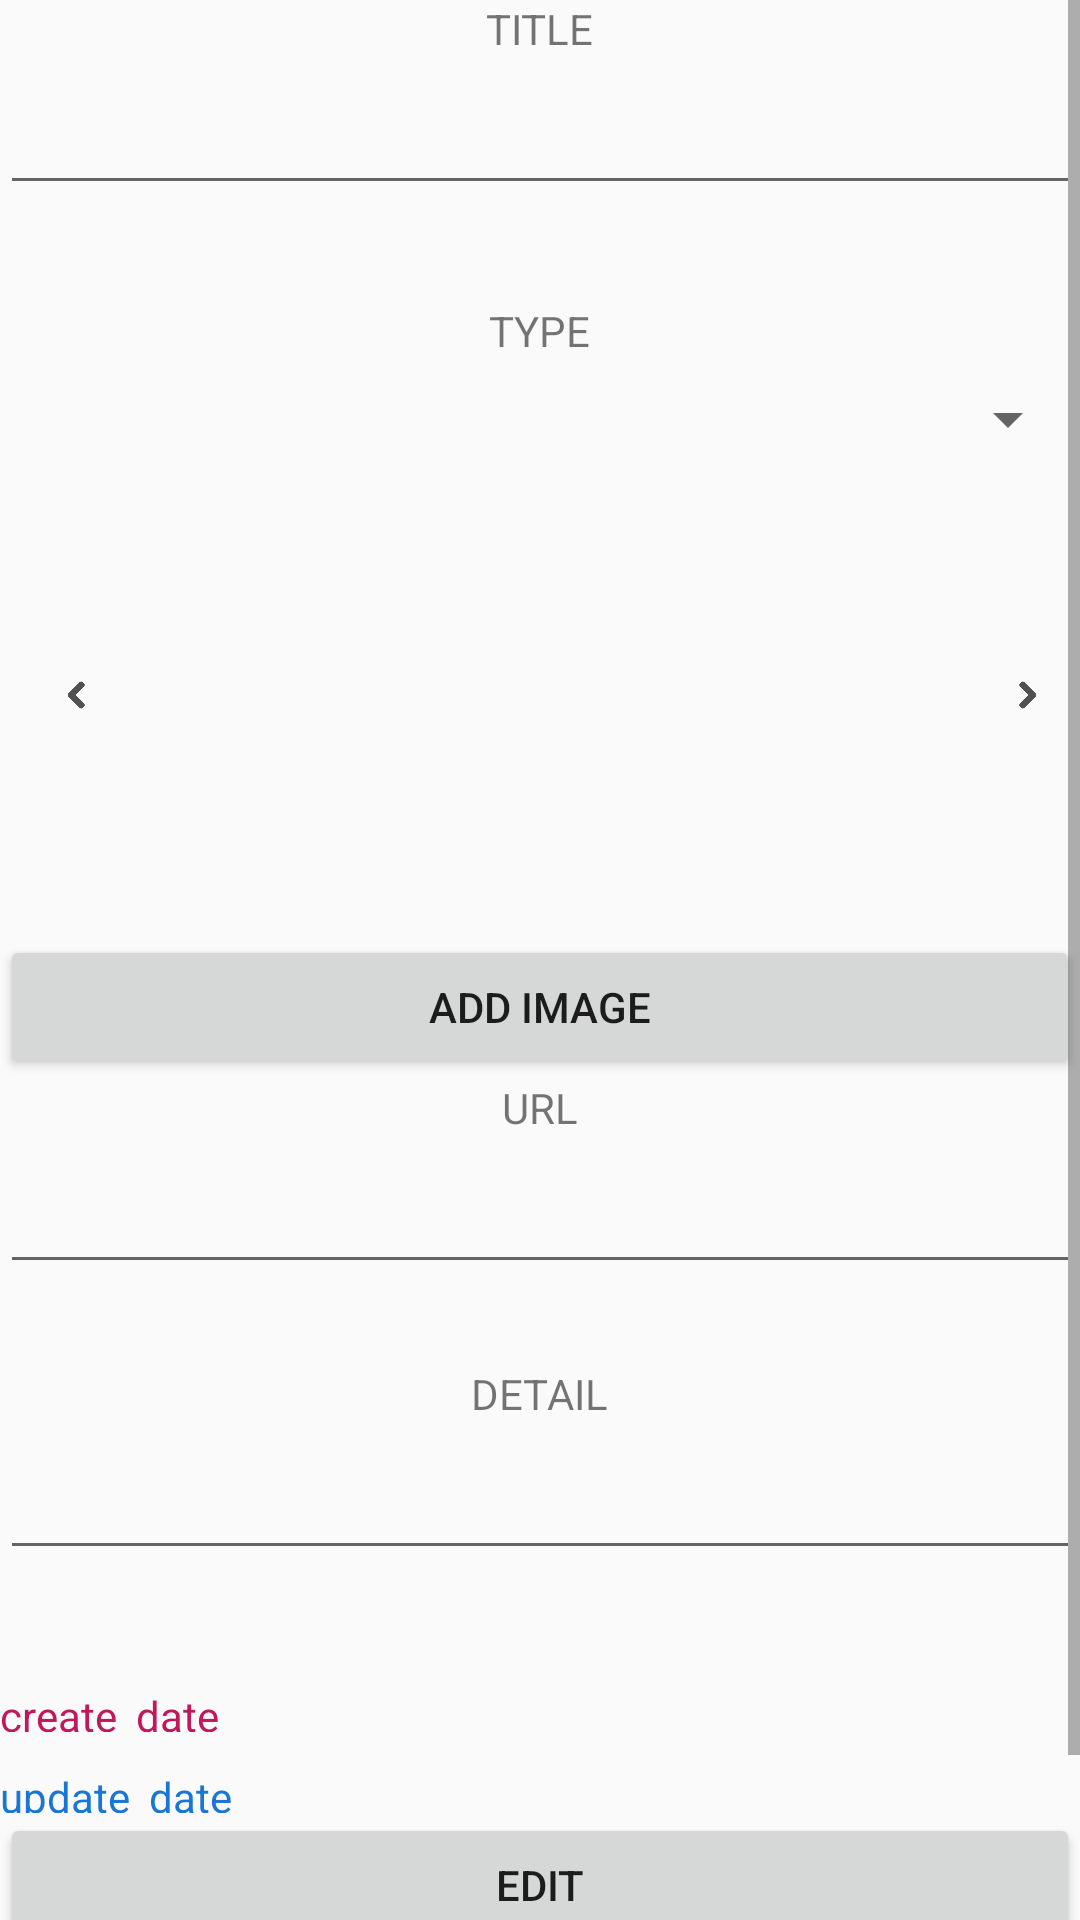

Where to tap for icons on this 1080 × 1920 app screen, as (x=x, y=y):
next: (x=1027, y=695)
prev: (x=76, y=695)
